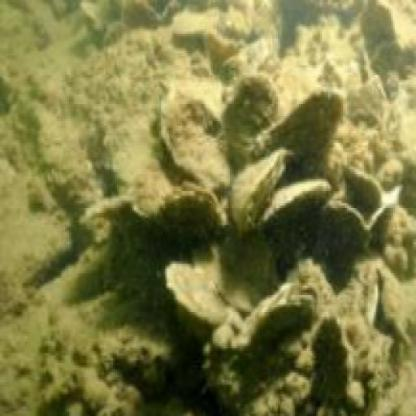Oyster- Indeterminate: (138, 184, 227, 249)
Oyster-Closed: (257, 93, 341, 179), (162, 93, 231, 191), (239, 280, 318, 349), (221, 76, 276, 160), (258, 181, 331, 243), (233, 152, 287, 233), (164, 262, 228, 323), (312, 316, 350, 399)
